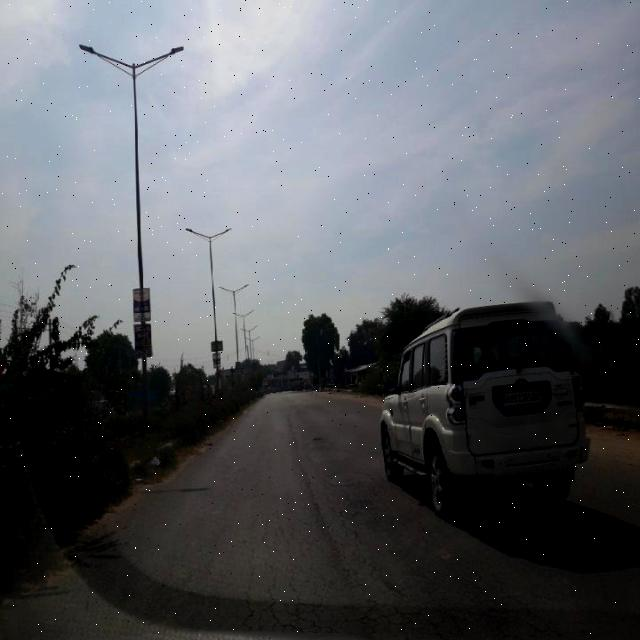D00: (289, 409, 368, 634)
D20: (222, 530, 452, 639)
